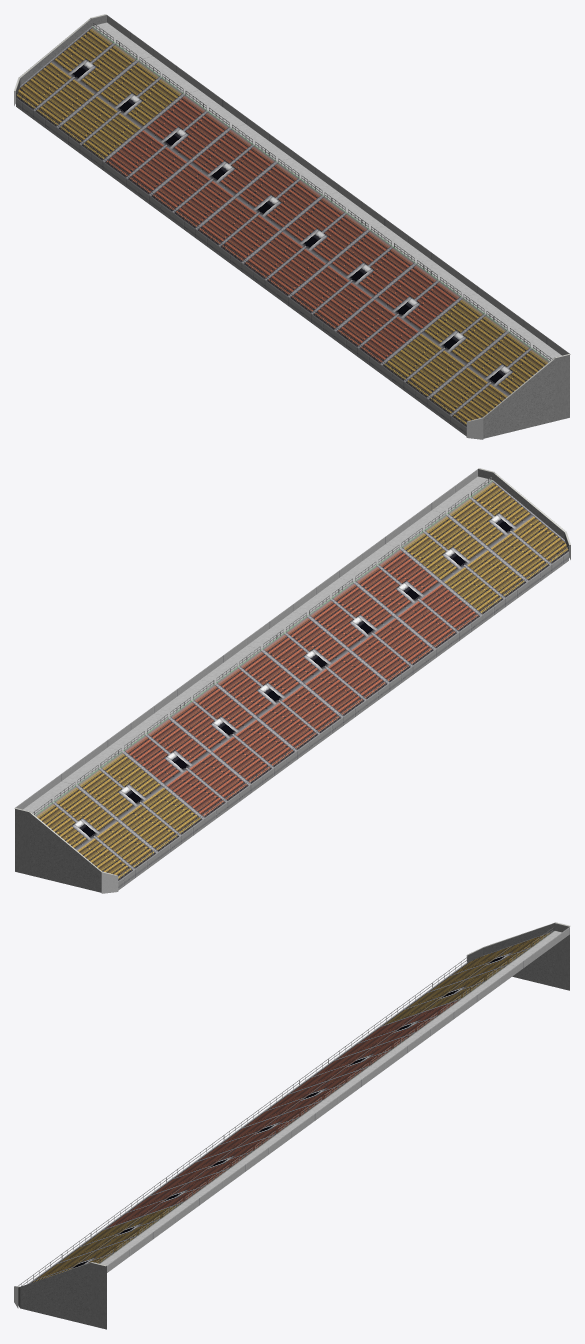
The picture shows the model from 3 angles, top to bottom: view 1: azimuth 30°, elevation 25°; view 2: azimuth 150°, elevation 25°; view 3: azimuth 330°, elevation 25°; orthographic projection.
Size of the model in its own units: 15.66 by 9.77 by 129.
9 materials, 9 textured.
